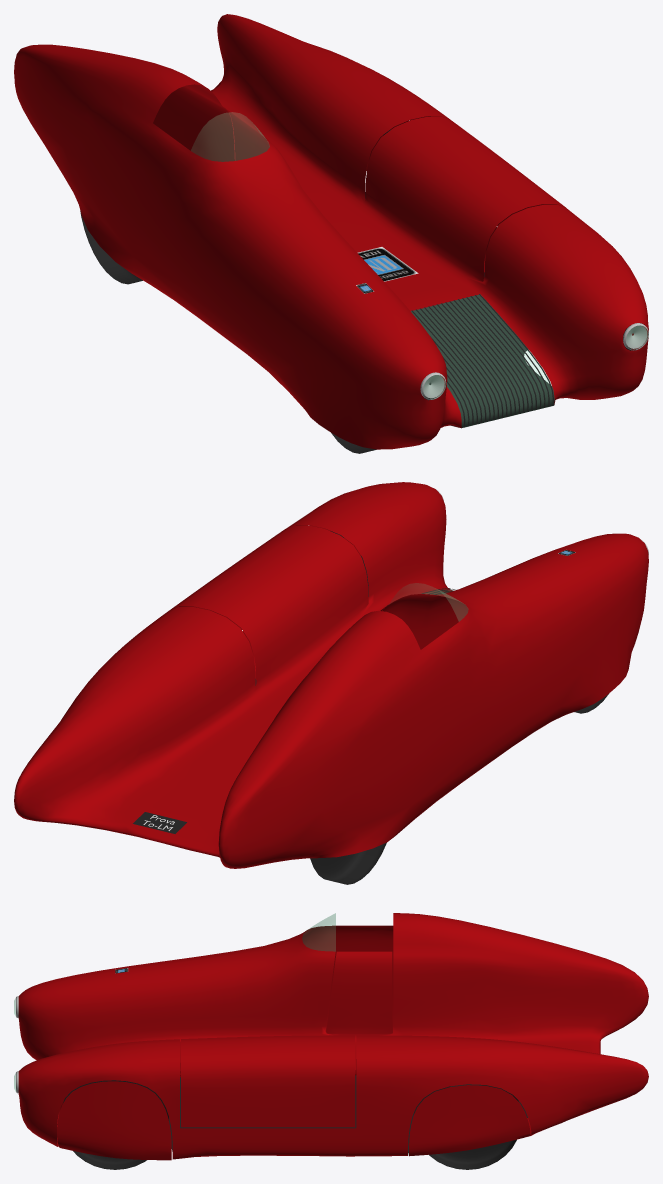
File: Bisiluro1.glb
3 views of the same model, one above another, from view 1: azimuth 30°, elevation 25°; view 2: azimuth 150°, elevation 25°; view 3: azimuth 270°, elevation 25° (orthographic). The views are drawn at different scales.
Visible parts, largest first — view 1: body, cooler, pneu, Cone, nardi; view 2: body, pneu, Plane; view 3: body, pneu.
Part boxes in pixels (<box>): body: <box>14,14,648,449</box>; cooler: <box>411,294,553,426</box>; pneu: <box>80,129,631,453</box>; Cone: <box>420,323,648,399</box>; nardi: <box>357,247,418,281</box>; body: <box>14,482,648,868</box>; pneu: <box>310,531,609,884</box>; Plane: <box>133,812,186,833</box>; body: <box>18,913,648,1160</box>; pneu: <box>63,1080,518,1169</box>.
Bounding box in the file's own units: 1.39 × 1.01 × 3.42.
Materials: 5 (1 with a texture image).
